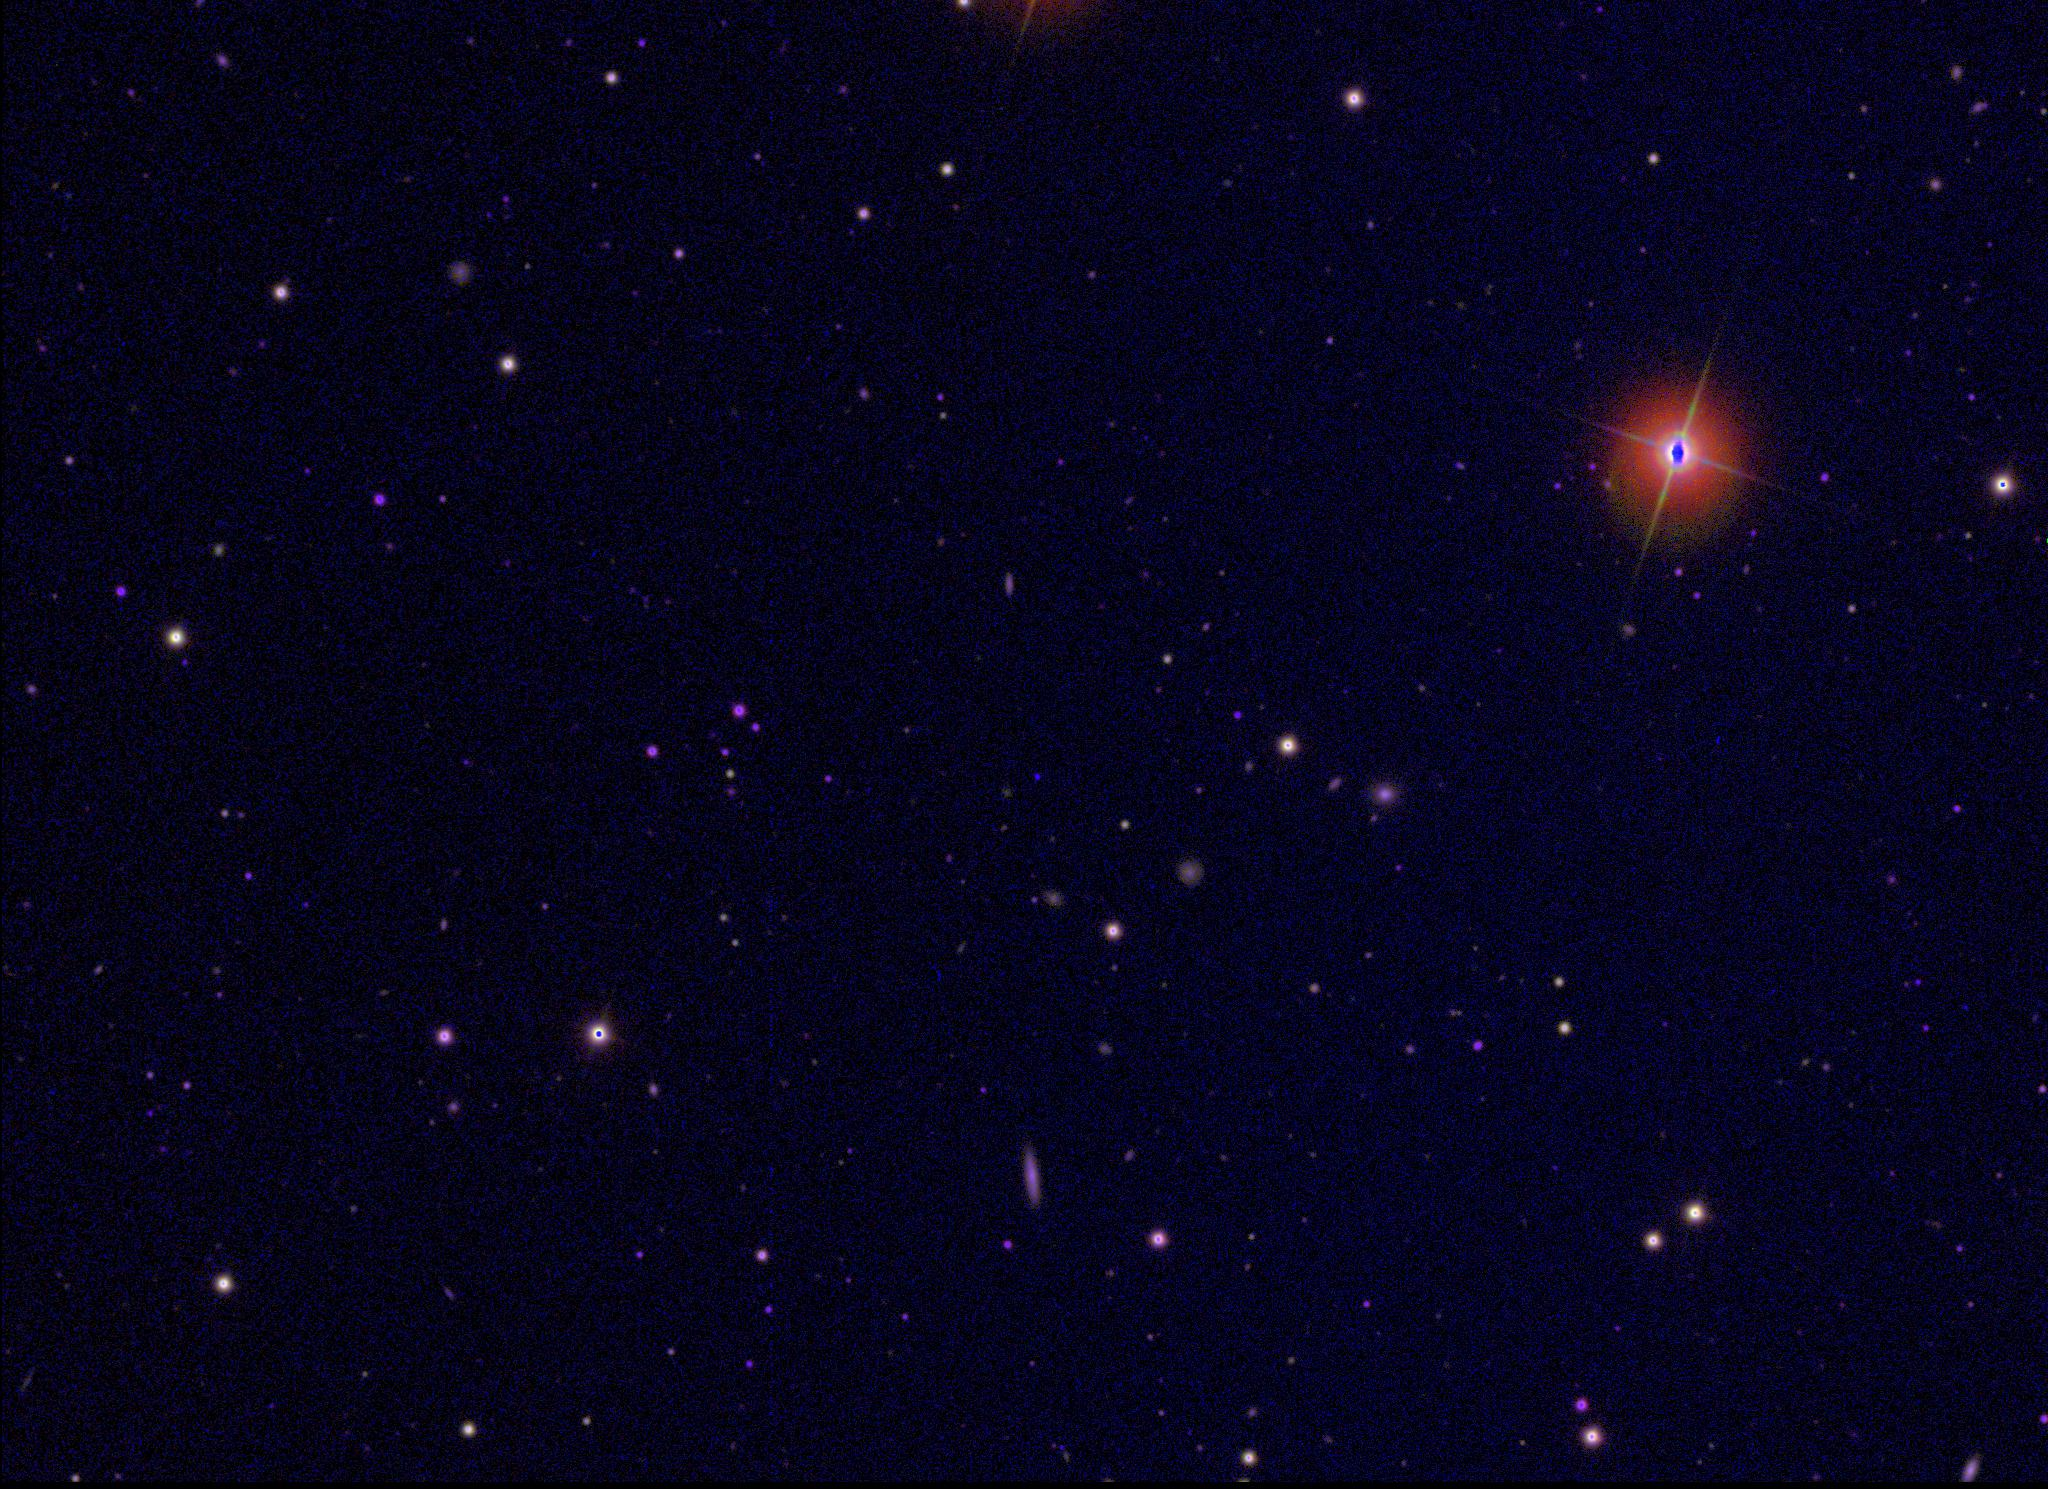L: (1030, 770, 1045, 784)
